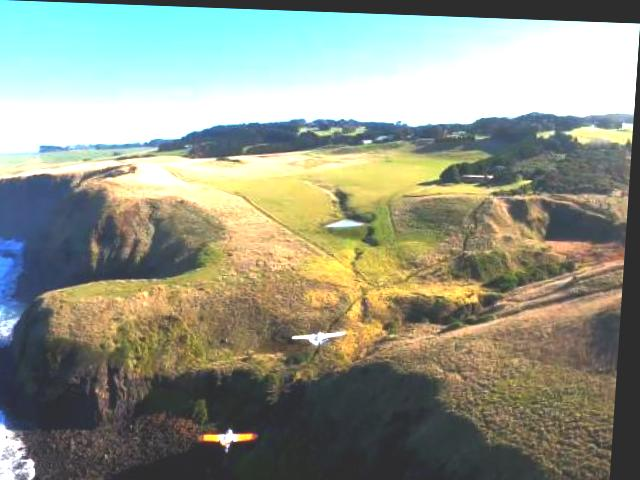uav: (203, 424, 263, 449), (294, 326, 351, 342)
